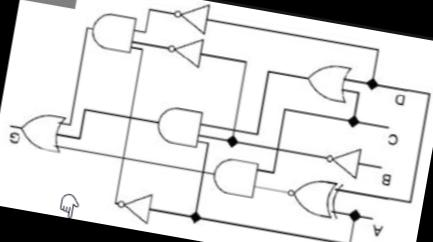and: (149, 96, 206, 153), (85, 5, 140, 60), (207, 150, 262, 200)
not: (110, 178, 157, 228), (162, 30, 207, 71), (320, 140, 364, 180), (169, 0, 212, 33)
or: (14, 98, 69, 157), (299, 56, 353, 106)
xor: (281, 171, 345, 220)
